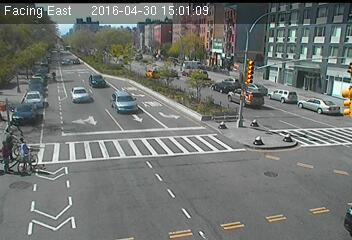neg: (7, 134, 38, 176), (49, 67, 59, 81)
